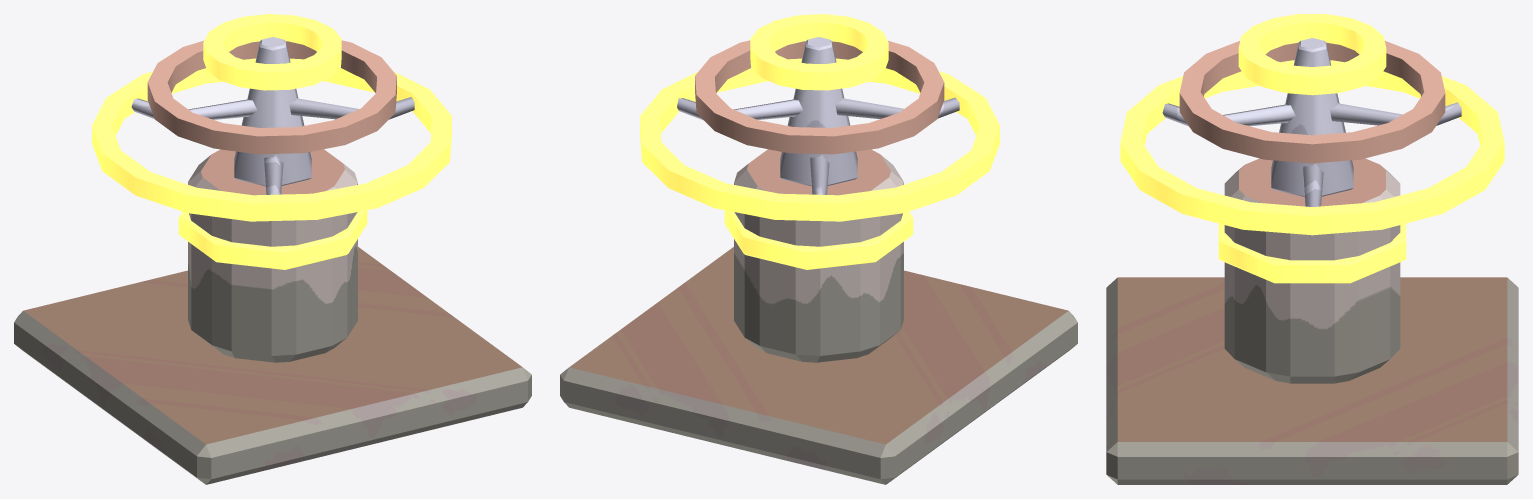
Rendered from R4X_SupportTurretDeployer_LOD1.glb.
3 renders of one model, left to right at view 1: azimuth 30°, elevation 25°; view 2: azimuth 150°, elevation 25°; view 3: azimuth 270°, elevation 25°, orthographic. The views are drawn at different scales.
Visible parts, largest first — view 1: R4X_SupportTurretDeployer_LOD1; view 2: R4X_SupportTurretDeployer_LOD1; view 3: R4X_SupportTurretDeployer_LOD1.
Part boxes in pixels (box(x1,y1,x2,y2)): R4X_SupportTurretDeployer_LOD1: box(14, 14, 531, 484); R4X_SupportTurretDeployer_LOD1: box(560, 14, 1077, 484); R4X_SupportTurretDeployer_LOD1: box(1106, 14, 1518, 484).
Size of the model in its own units: 0.52 by 0.5 by 0.52.
Materials: 4 (3 with a texture image).
